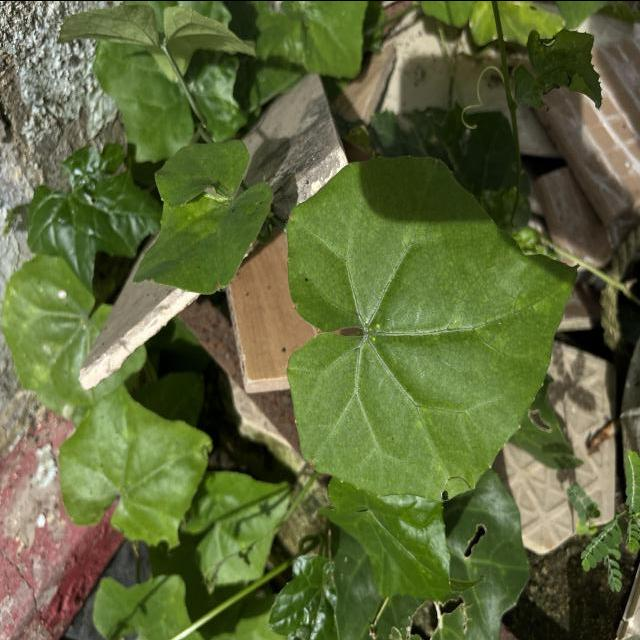Coccinia grandis: (282, 150, 584, 506)
